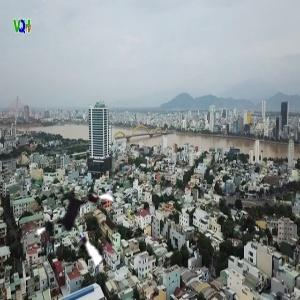drone: (32, 178, 127, 273)
